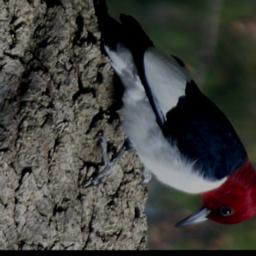Woodpecker: (75, 7, 256, 230)
